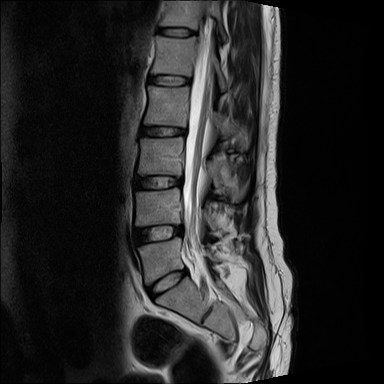Normal IVD: (144, 265, 192, 307), (129, 221, 186, 243), (131, 172, 183, 193), (137, 121, 189, 140), (146, 72, 192, 89), (153, 25, 199, 39)
